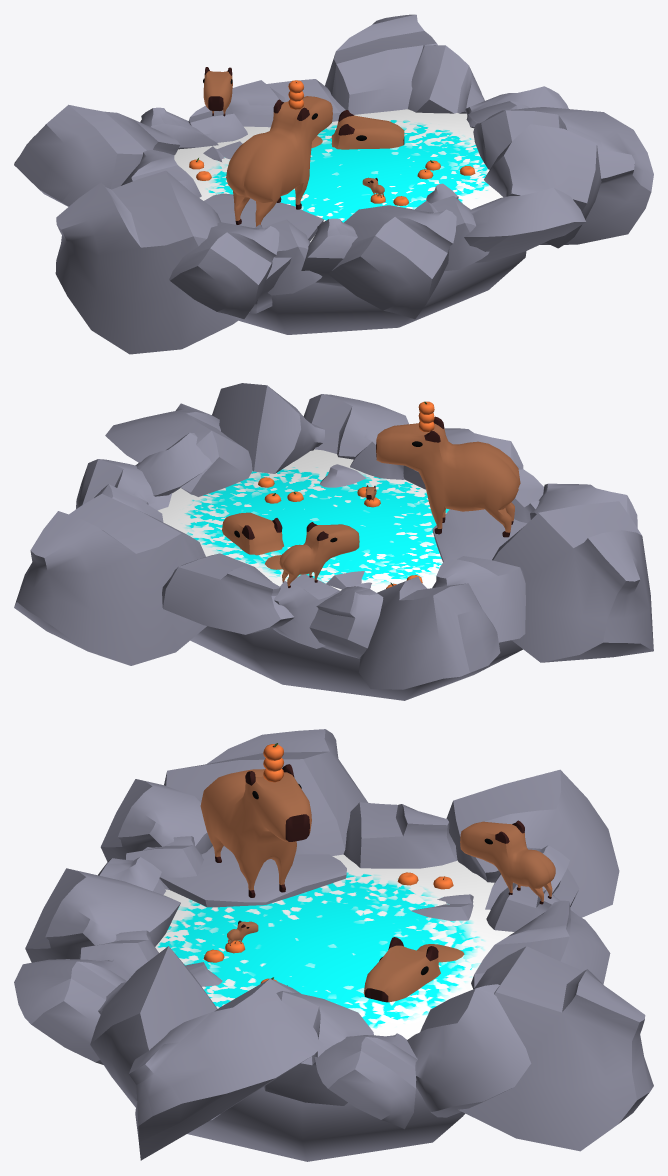
The model's file is capybara_bath.glb.
3 views of the same model, one above another, from view 1: azimuth 30°, elevation 25°; view 2: azimuth 150°, elevation 25°; view 3: azimuth 270°, elevation 25° (orthographic). The views are drawn at different scales.
Parts seen in each view (by area): view 1: Object_52, Object_41, Object_48, Object_66, Object_54, Object_42, Object_64, Object_34, Object_50, Object_46, Object_70, Object_62 (+12 smaller); view 2: Object_64, Object_41, Object_52, Object_54, Object_34, Object_42, Object_72, Object_50, Object_66, Object_44, Object_70, Object_74 (+13 smaller); view 3: Object_41, Object_64, Object_66, Object_54, Object_42, Object_62, Object_52, Object_50, Object_48, Object_34, Object_70, Object_68 (+15 smaller).
Part boxes in pixels (x1,y1,x2,y2): Object_52: (55, 170, 249, 354); Object_41: (174, 109, 502, 242); Object_48: (328, 205, 456, 319); Object_66: (473, 107, 653, 244); Object_54: (14, 104, 179, 206); Object_42: (238, 251, 526, 334); Object_64: (325, 14, 437, 114); Object_34: (226, 96, 332, 226); Object_50: (484, 124, 601, 248); Object_46: (169, 222, 279, 318); Object_70: (464, 187, 585, 262); Object_62: (408, 45, 484, 113); Object_64: (14, 494, 206, 665); Object_41: (158, 449, 449, 592); Object_52: (492, 501, 653, 662); Object_54: (358, 576, 500, 689); Object_34: (376, 423, 520, 532); Object_42: (190, 626, 522, 700); Object_72: (162, 553, 294, 634); Object_50: (212, 383, 324, 473); Object_66: (105, 403, 252, 496); Object_44: (432, 556, 525, 642); Object_70: (303, 394, 408, 459); Object_74: (309, 586, 383, 658); Object_41: (155, 854, 514, 1039); Object_64: (458, 946, 653, 1151); Object_66: (129, 979, 323, 1160); Object_54: (446, 769, 619, 917); Object_42: (187, 1087, 465, 1161); Object_62: (407, 984, 531, 1117); Object_52: (164, 729, 368, 855); Object_50: (90, 946, 220, 1120); Object_48: (25, 868, 180, 962); Object_34: (200, 769, 311, 890); Object_70: (14, 959, 131, 1064); Object_68: (314, 1033, 417, 1129).
Bounding box in the file's own units: 2.5 × 1.09 × 1.98.
Materials: 7 (1 with a texture image).
